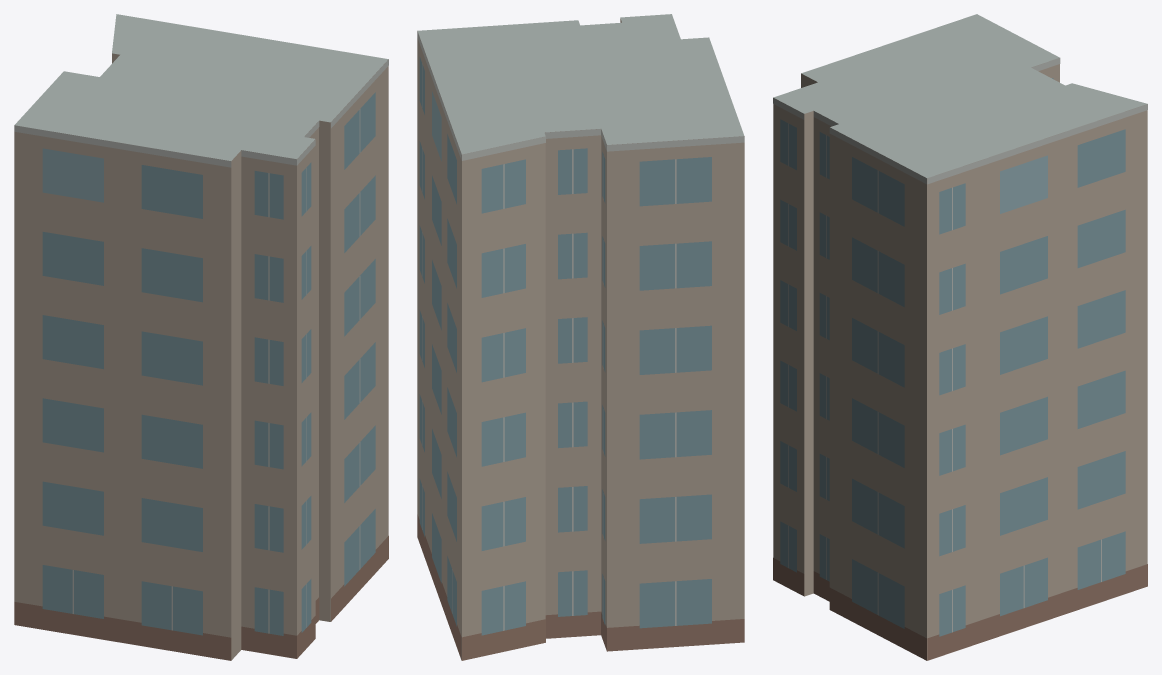
The model's file is survey-upis-32960008.glb.
3 views of the same model, side by side, from view 1: azimuth 30°, elevation 25°; view 2: azimuth 150°, elevation 25°; view 3: azimuth 270°, elevation 25° (orthographic). The views are drawn at different scales.
Parts seen in each view (by area): view 1: survey-upis-32960008.tmp; view 2: survey-upis-32960008.tmp; view 3: survey-upis-32960008.tmp.
Boxes of the visible parts, x1,y1,x2,y2 form: survey-upis-32960008.tmp: [14, 14, 388, 660]; survey-upis-32960008.tmp: [417, 14, 744, 660]; survey-upis-32960008.tmp: [773, 14, 1147, 660].
Size of the model in its own units: 13.81 by 18.9 by 13.3.
